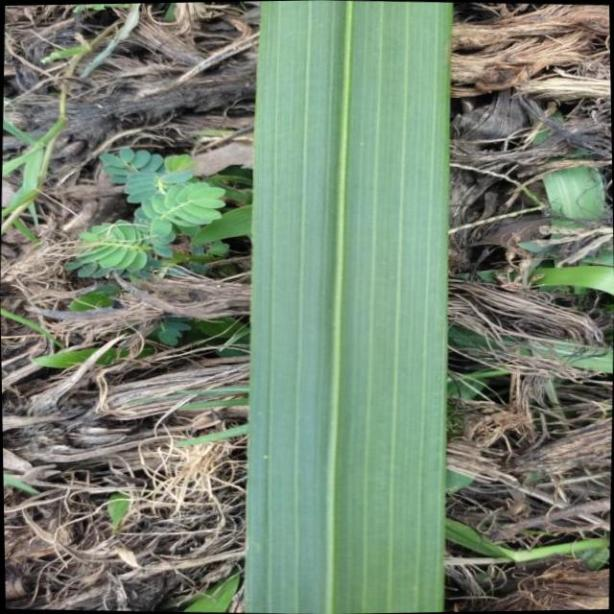Healthy: (249, 0, 451, 614)
